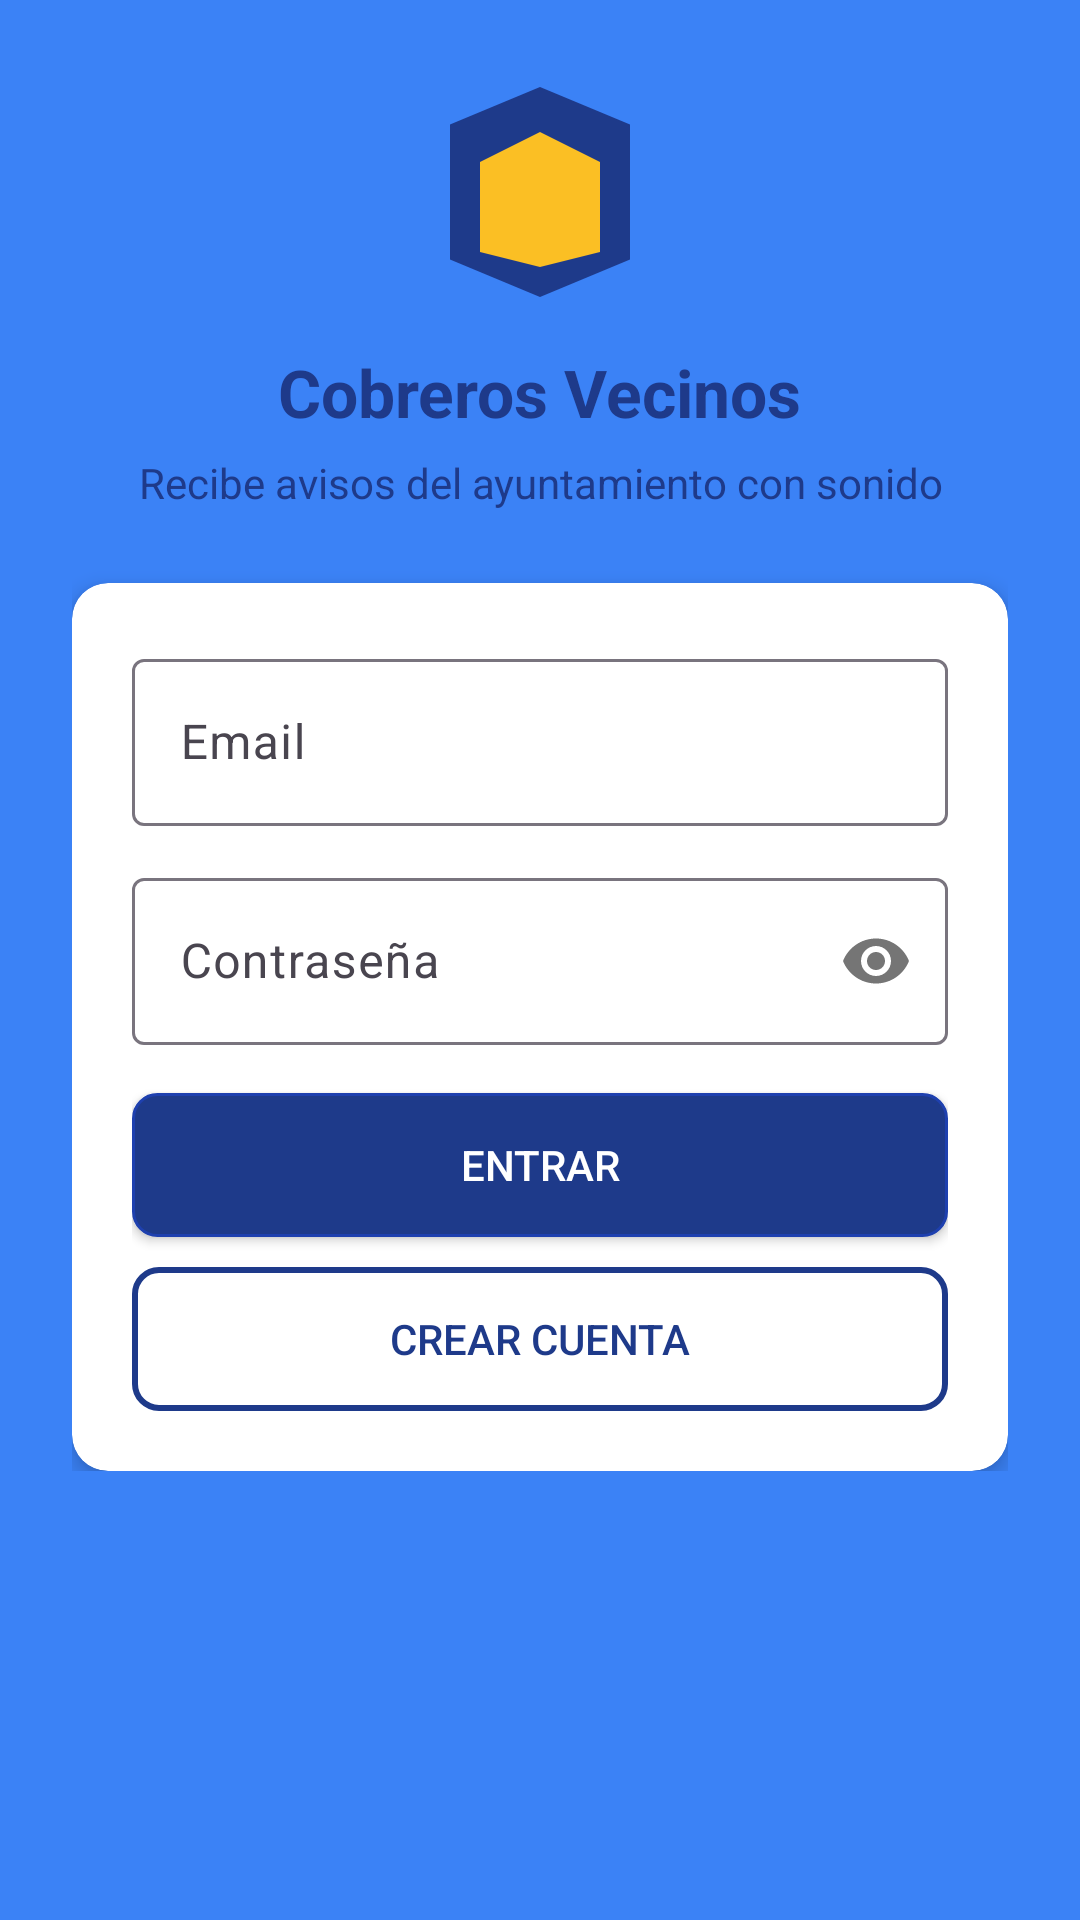

Icon click points for this 1080*1920 phone screenshot, format [x,y]:
Escudo: [540,192]
